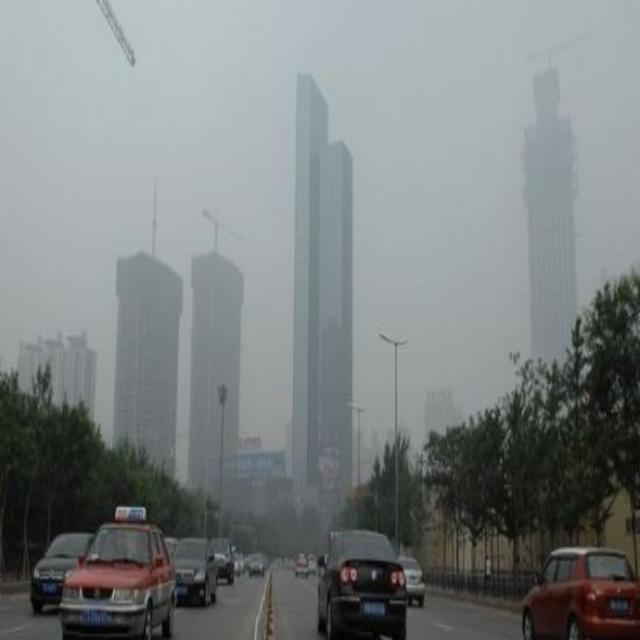car: (64, 517, 176, 639), (520, 545, 638, 638), (317, 529, 408, 639), (31, 534, 91, 611), (172, 536, 218, 608), (398, 554, 426, 607), (210, 533, 234, 580), (248, 553, 265, 577), (294, 553, 310, 578)
